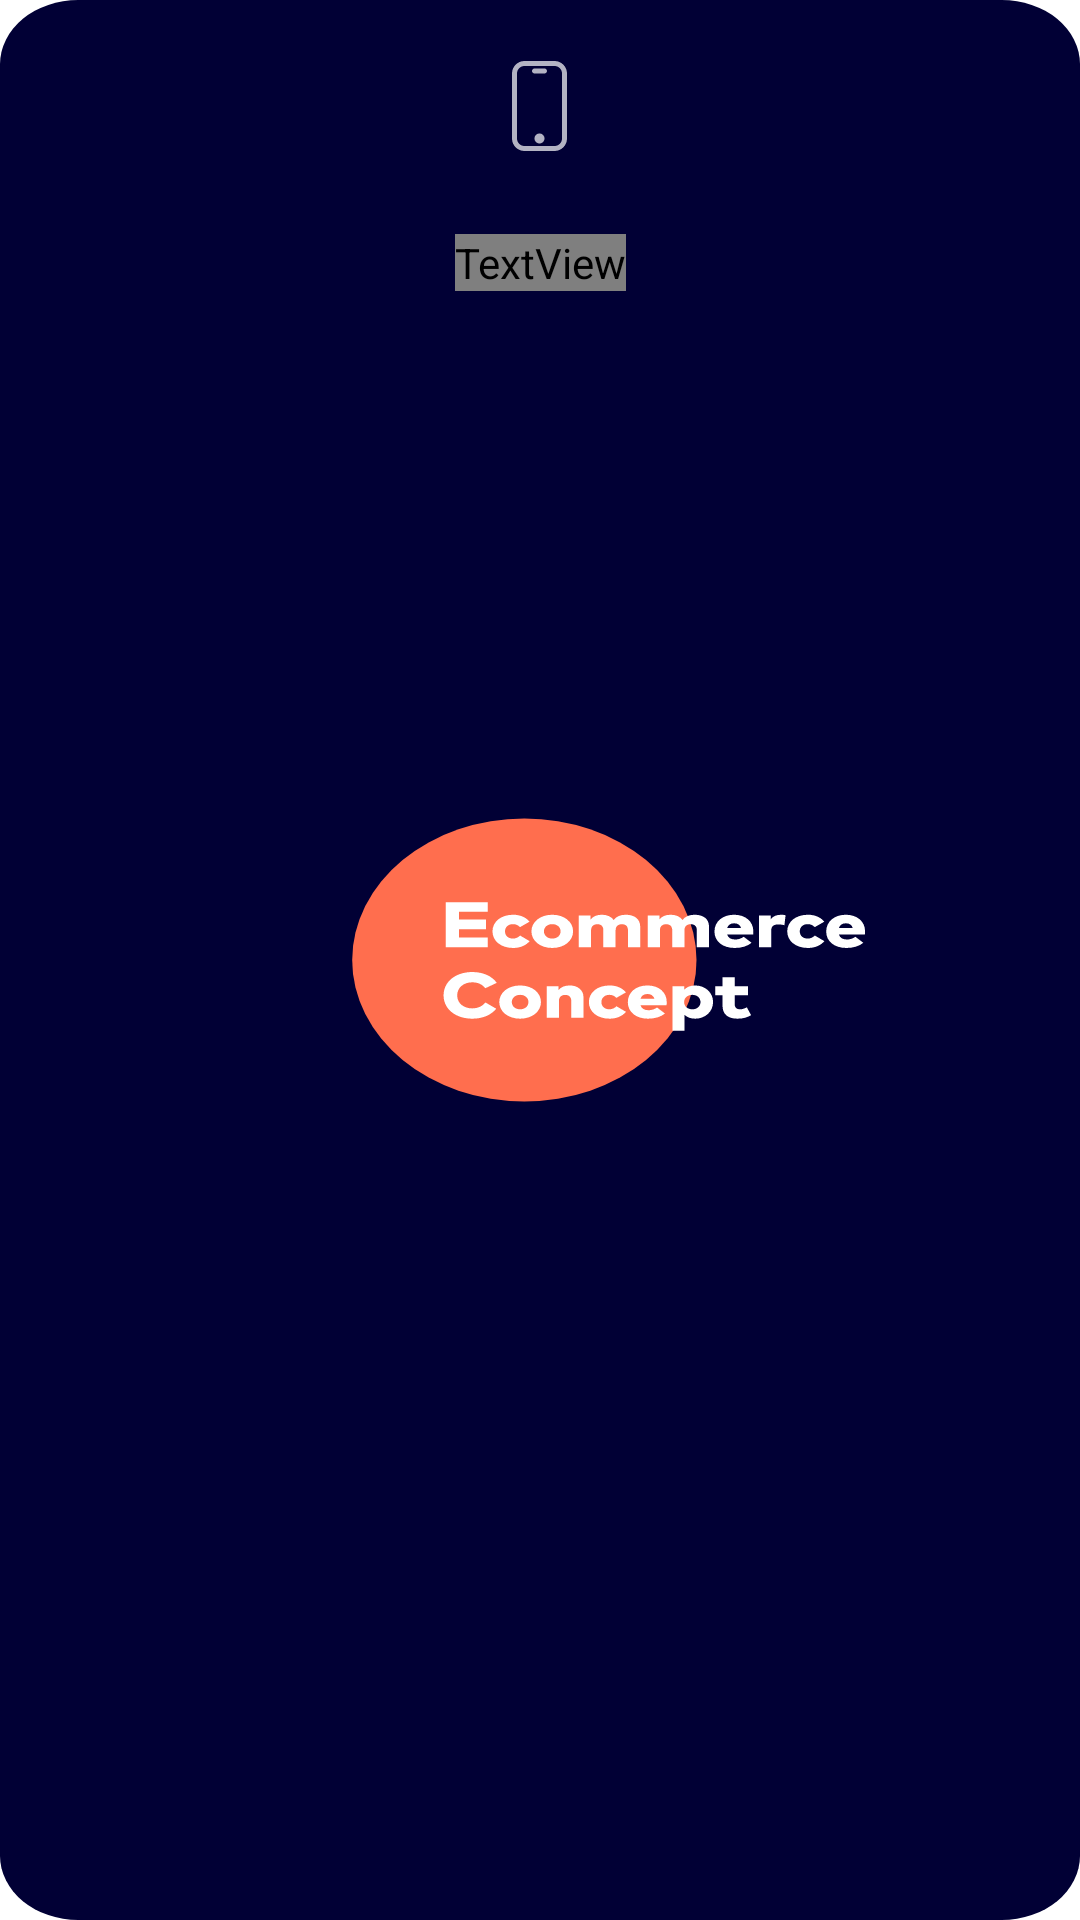

Point at icon controls on the screen. Image size 1080×1920, points as [x,y].
phones: [539,106]
